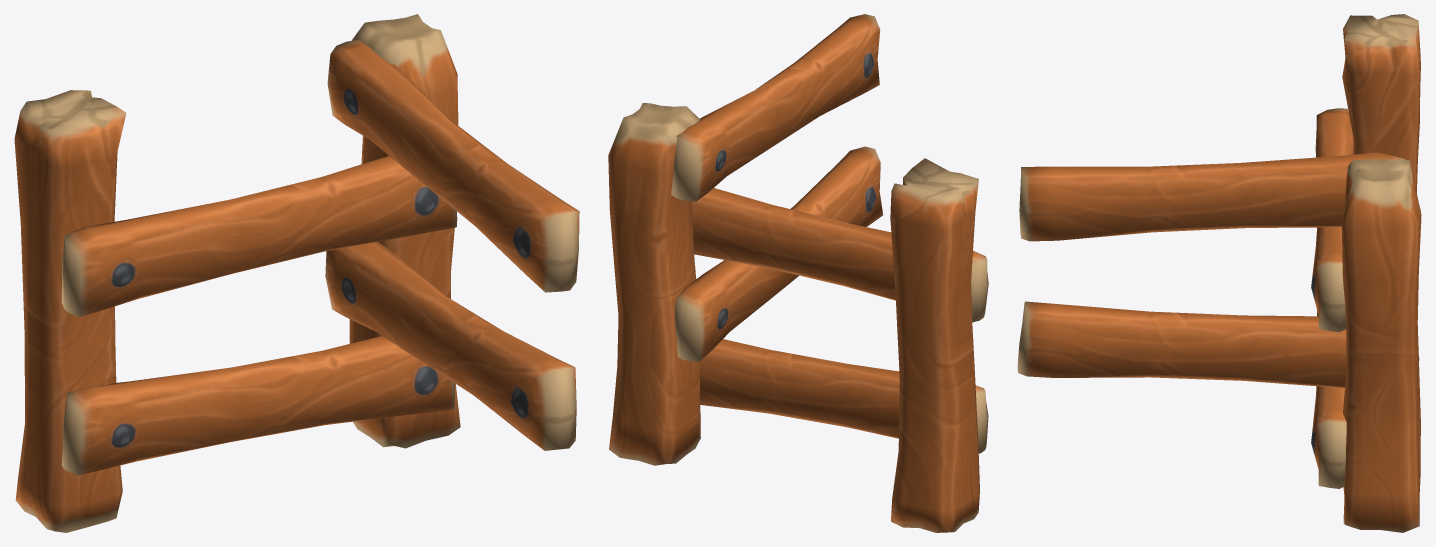
File: fance9.fbx
3 views of the same model, side by side, from view 1: azimuth 30°, elevation 25°; view 2: azimuth 150°, elevation 25°; view 3: azimuth 270°, elevation 25° (orthographic). The views are drawn at different scales.
Parts seen in each view (by area): view 1: Retopo_Cube.020; view 2: Retopo_Cube.020; view 3: Retopo_Cube.020.
Part boxes in pixels (bbox=[...]): Retopo_Cube.020: bbox=[14, 14, 579, 532]; Retopo_Cube.020: bbox=[608, 14, 988, 532]; Retopo_Cube.020: bbox=[1017, 14, 1421, 532].
Bounding box in the file's own units: 533 × 504 × 520.
